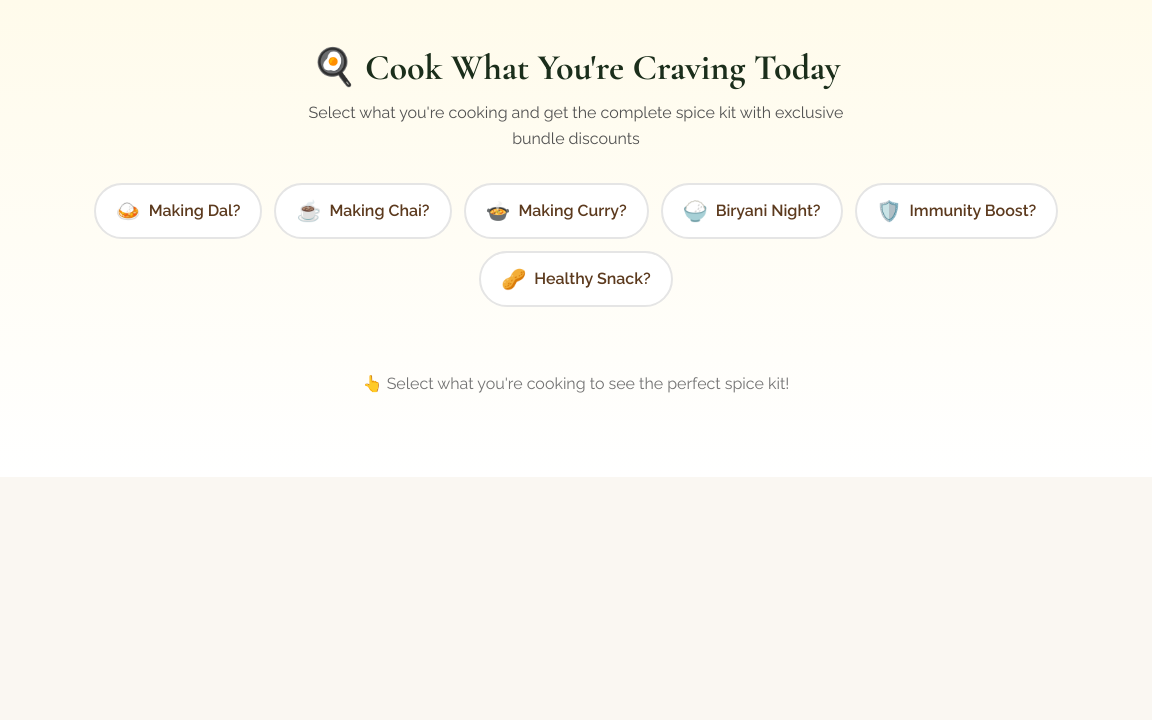
it: CookingContextWidget › displays the kit details when an option is selected
# Click on "Making Dal?"
Click the text "Making Dal?": click(194, 211) [149,199,240,223]
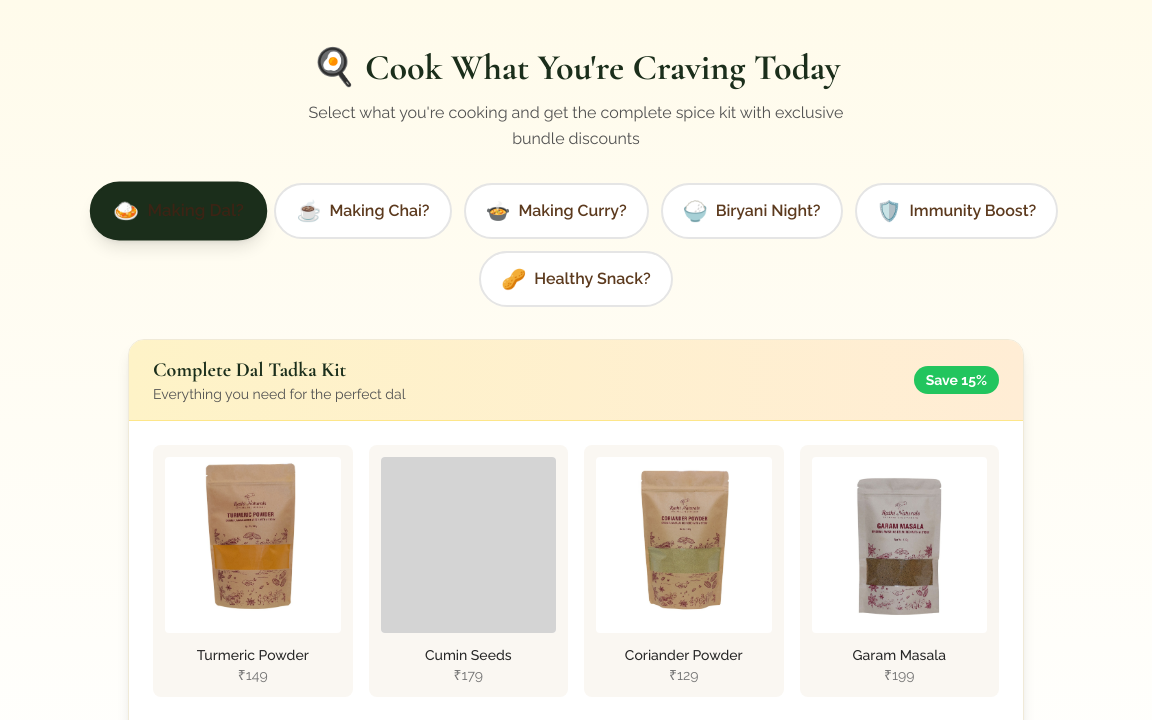
expect the heading "Complete Dal Tadka Kit" is shown: met, box [153,358,346,382]
expect the text "Turmeric Powder" is shown: met, box [197,647,309,663]
expect the text "Cumin Seeds" is shown: met, box [425,647,512,663]
